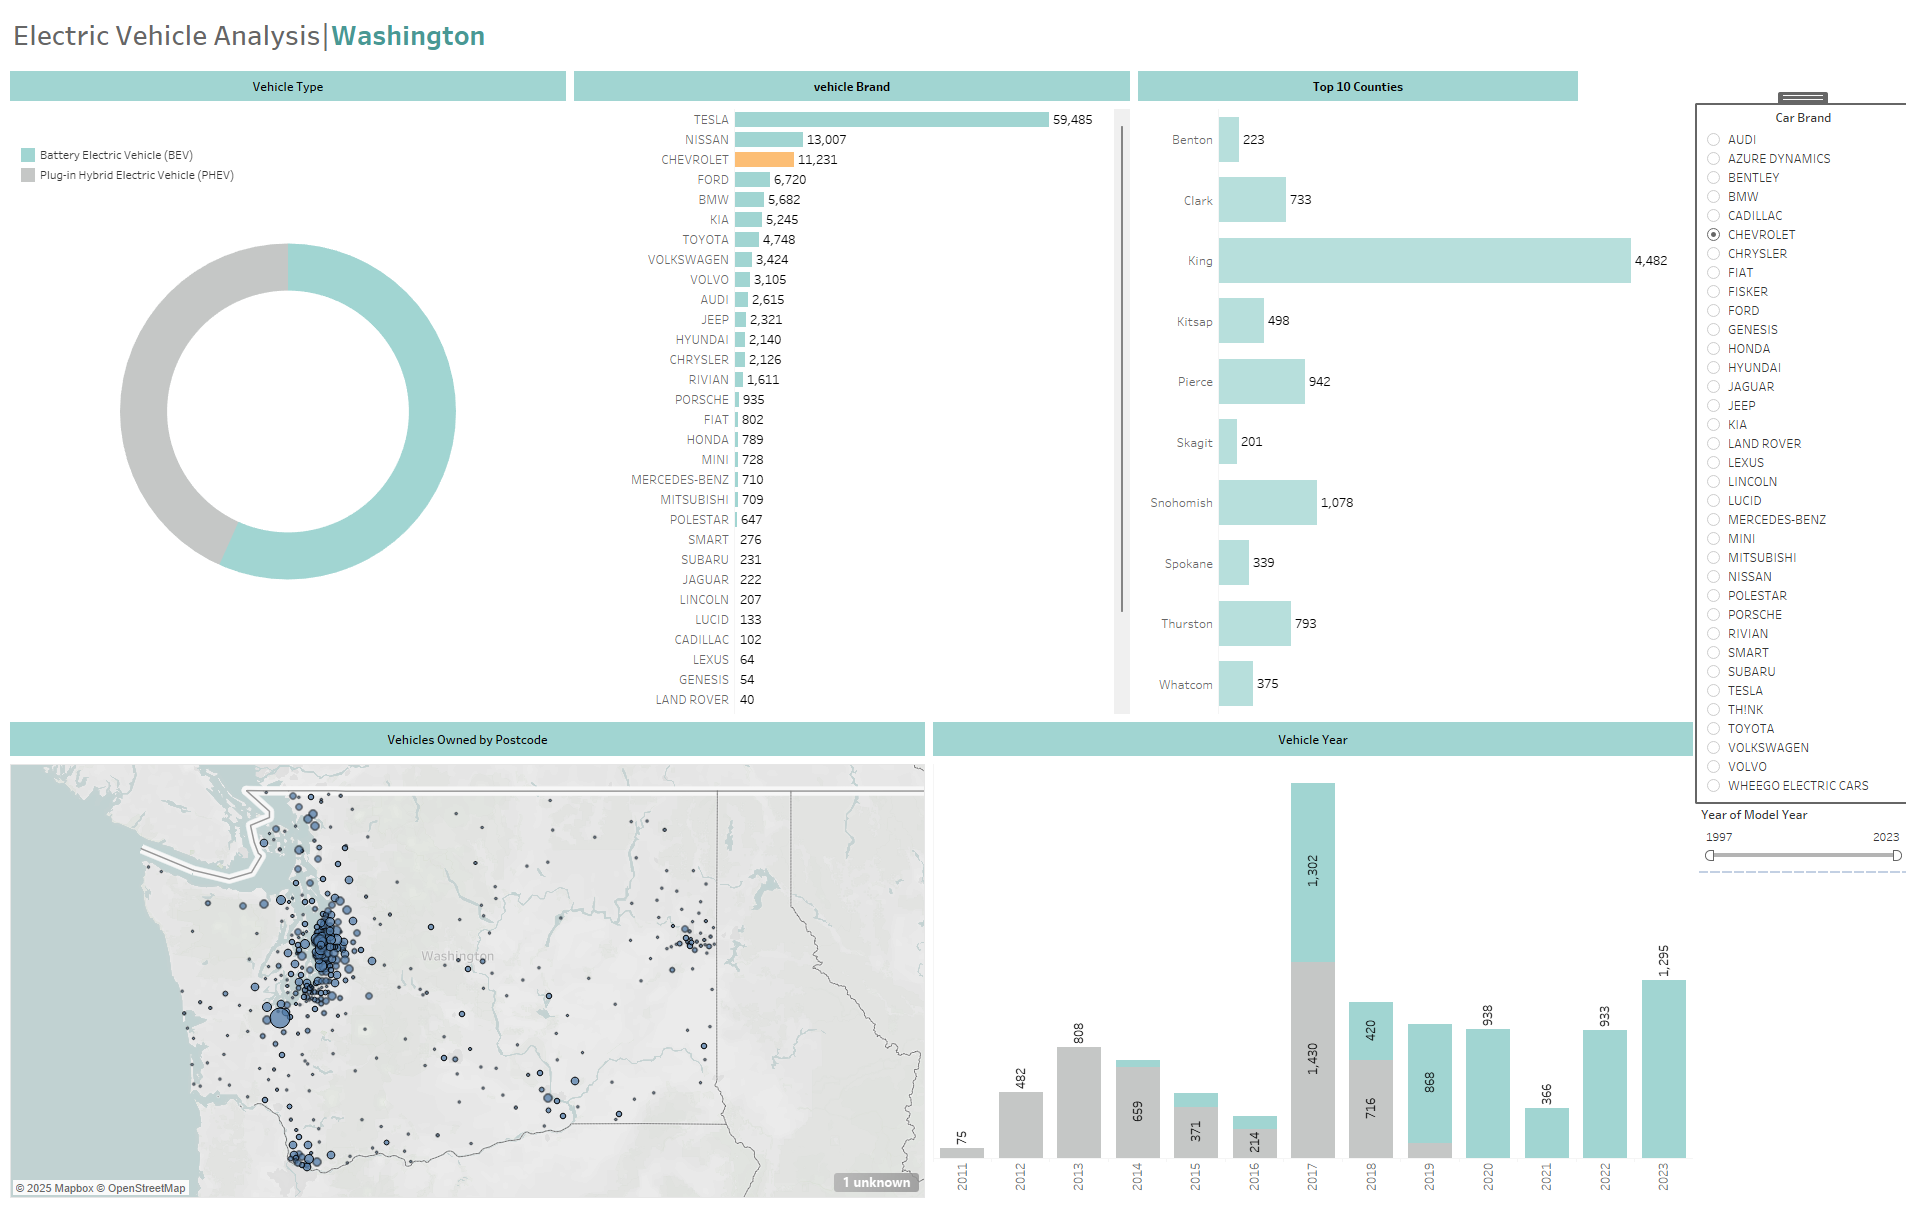

This screenshot's page, from the dashboard's own definition file:
{"tool":"tableau","page":{"name":"Dashboard 1","canvas":[1000,1000],"units":"permille","ordinal":0},"visuals":[{"type":"text","box":[4.2,6,991.7,54.3]},{"type":"text","box":[4.2,60.3,293.8,31.3]},{"type":"text","box":[297.9,60.3,293.8,31.3]},{"type":"text","box":[591.7,60.3,233.6,31.3]},{"type":"worksheet","title":"vehicle type donut","mark":"Pie","rows":["Calculation_1808195256372592642","Calculation_1808195256372592642"],"box":[4.2,91.2,293.8,504.5]},{"type":"worksheet","title":"make and model","mark":"Automatic","rows":["Make"],"cols":["DOL Vehicle ID"],"box":[297.9,91.2,293.8,504.5]},{"type":"worksheet","title":"Top ten countries column chart","mark":"Automatic","rows":["County"],"cols":["DOL Vehicle ID"],"box":[591.7,91.2,293.2,504.5]},{"type":"parameter","param":"[Parameters].[Parameter 1]","box":[884.9,91.5,110.9,730.2]},{"type":"legend","title":"vehicle type donut","param":"[federated.1yzxt031h0zl7c1ghce050qrviho].[none:Electric Vehicle Type:nk]","box":[10.4,124.9,121.4,51.8]},{"type":"text","box":[4.2,595.8,480.7,34.6]},{"type":"text","box":[484.8,595.8,400.1,34.6]},{"type":"worksheet","title":"map","mark":"Automatic","box":[4.2,630.4,480.7,363.6]},{"type":"worksheet","title":"year and type","mark":"Bar","rows":["DOL Vehicle ID"],"cols":["Model Year"],"box":[484.8,630.4,400.1,363.6]},{"type":"filter","title":"year and type","param":"[federated.1yzxt031h0zl7c1ghce050qrviho].[tyr:Model Year:qk]","box":[884.9,821.7,110.9,51.6]}]}

Visuals, with their boxes on the dashboard's canvas, which has no fixed pixel size, in thousandths of its width and height (x1, y1, x2, y2). These are canvas units, not pixel positions in the 1906x1210 screenshot, which may show the page scaled, cropped or inside an application window:
text: bbox=(4, 6, 996, 60)
text: bbox=(4, 60, 298, 92)
text: bbox=(298, 60, 592, 92)
text: bbox=(592, 60, 825, 92)
"vehicle type donut" worksheet (Pie marks): bbox=(4, 91, 298, 596)
"make and model" worksheet: bbox=(298, 91, 592, 596)
"Top ten countries column chart" worksheet: bbox=(592, 91, 885, 596)
parameter: bbox=(885, 92, 996, 822)
"vehicle type donut" legend: bbox=(10, 125, 132, 177)
text: bbox=(4, 596, 485, 630)
text: bbox=(485, 596, 885, 630)
"map" worksheet: bbox=(4, 630, 485, 994)
"year and type" worksheet (Bar marks): bbox=(485, 630, 885, 994)
"year and type" filter: bbox=(885, 822, 996, 873)
